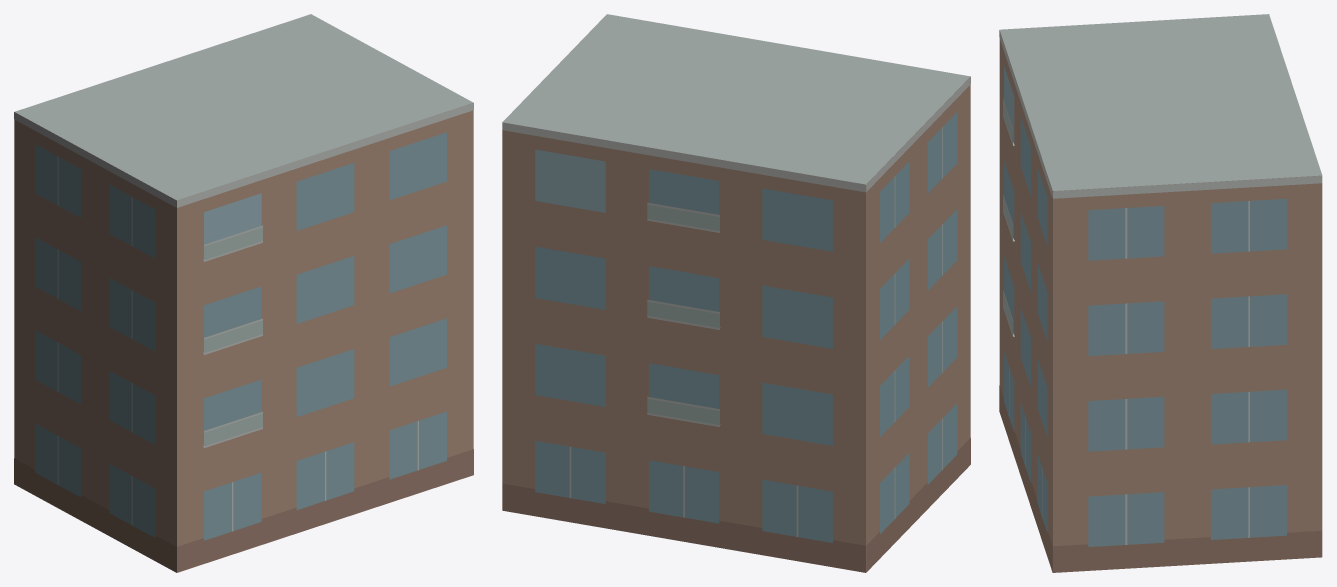
Rendered from survey-upis-32523670.glb.
3 views of the same model, side by side, from view 1: azimuth 30°, elevation 25°; view 2: azimuth 150°, elevation 25°; view 3: azimuth 270°, elevation 25° (orthographic). The views are drawn at different scales.
Parts seen in each view (by area): view 1: survey-upis-32523670.tmp; view 2: survey-upis-32523670.tmp; view 3: survey-upis-32523670.tmp.
Boxes of the visible parts, bbox=[...] form: survey-upis-32523670.tmp: bbox=[14, 14, 473, 572]; survey-upis-32523670.tmp: bbox=[502, 14, 970, 572]; survey-upis-32523670.tmp: bbox=[999, 14, 1322, 572].
Size of the model in its own units: 12.05 by 12.1 by 9.29.
